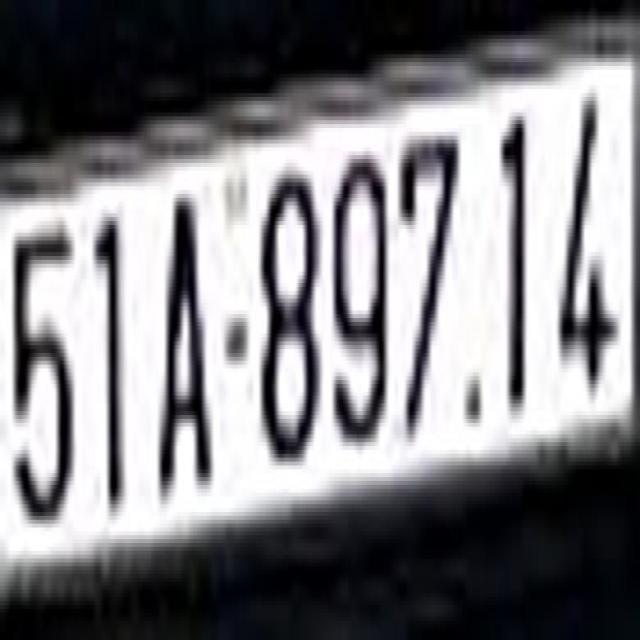1: (84, 166, 138, 532), (493, 89, 545, 442)
4: (552, 54, 625, 427)
5: (6, 182, 80, 558)
7: (396, 93, 460, 454)
8: (256, 132, 322, 492)
9: (326, 109, 394, 462)
A: (152, 159, 220, 528)
